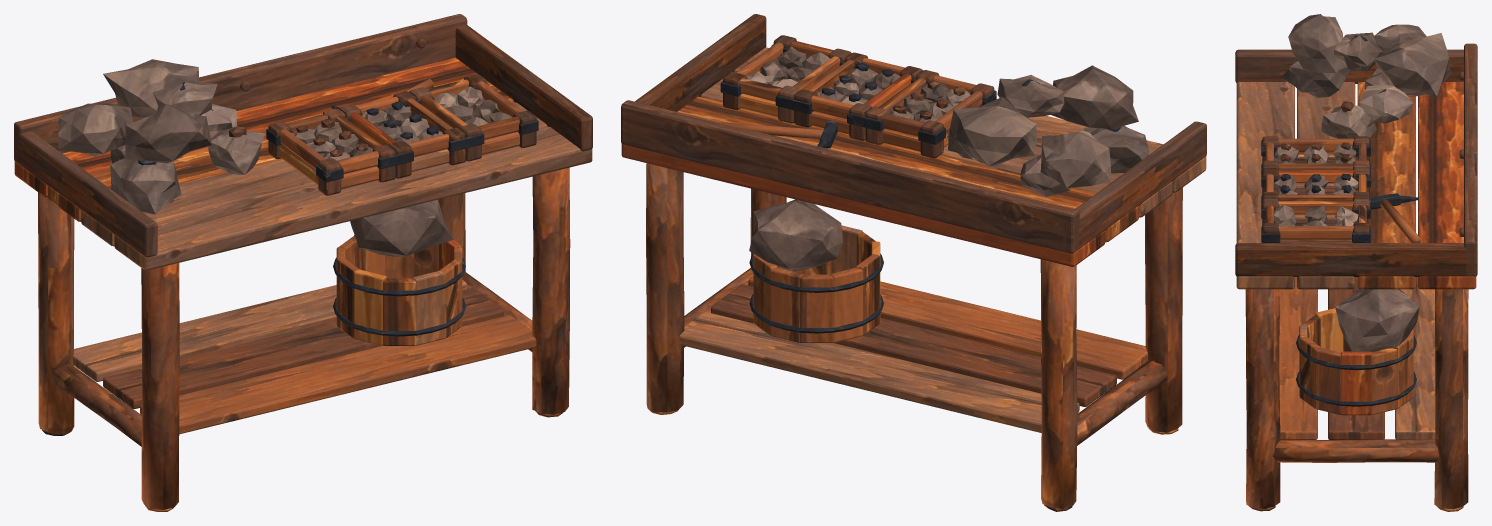
Rendered from mp_sorting_table.glb.
3 views of the same model, side by side, from view 1: azimuth 30°, elevation 25°; view 2: azimuth 150°, elevation 25°; view 3: azimuth 270°, elevation 25° (orthographic). The views are drawn at different scales.
Visible parts, largest first — view 1: model; view 2: model; view 3: model.
Part boxes in pixels (bbox=[...]): model: bbox=[14, 14, 592, 511]; model: bbox=[621, 14, 1206, 511]; model: bbox=[1235, 14, 1477, 511].
Bounding box in the file's own units: 1.4 × 1.1 × 0.72.
Materials: 24 (24 with a texture image).
